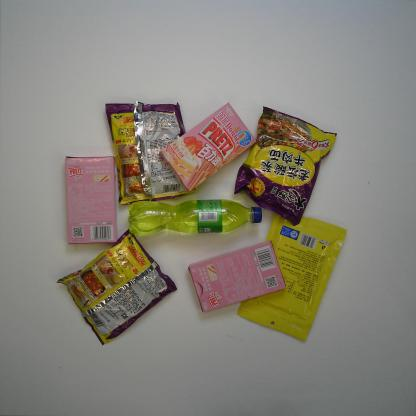Dessert: (158, 97, 257, 197), (186, 239, 288, 316), (62, 152, 121, 250)
Dried Fruit: (235, 207, 352, 342)
Drink: (125, 193, 265, 240)
Instant Noodles: (54, 226, 179, 350), (229, 102, 335, 224), (102, 97, 198, 208)
